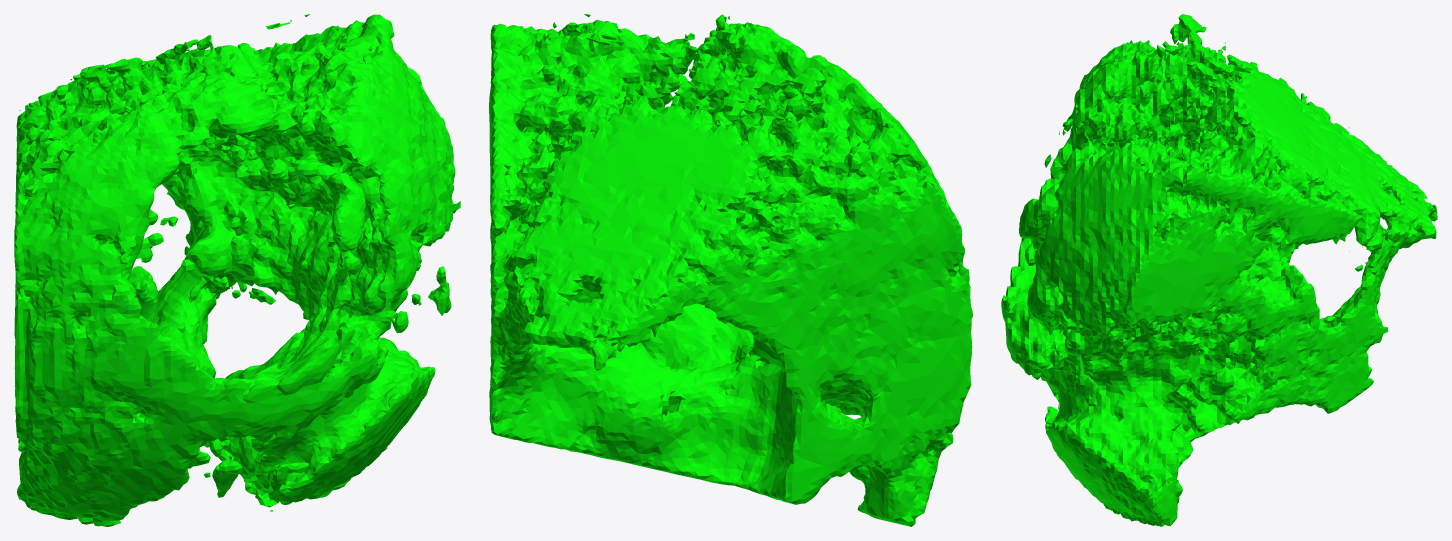
File: B939XXXX-1_base_34.obj
3 views of the same model, side by side, from view 1: azimuth 30°, elevation 25°; view 2: azimuth 150°, elevation 25°; view 3: azimuth 270°, elevation 25° (orthographic). The views are drawn at different scales.
Visible parts, largest first — view 1: 34_base; view 2: 34_base; view 3: 34_base.
Part boxes in pixels (box(x1,y1,x2,y2)): 34_base: box(14, 14, 460, 526); 34_base: box(489, 14, 972, 526); 34_base: box(1001, 14, 1437, 526).
Size of the model in its own units: 219 by 217 by 204.
